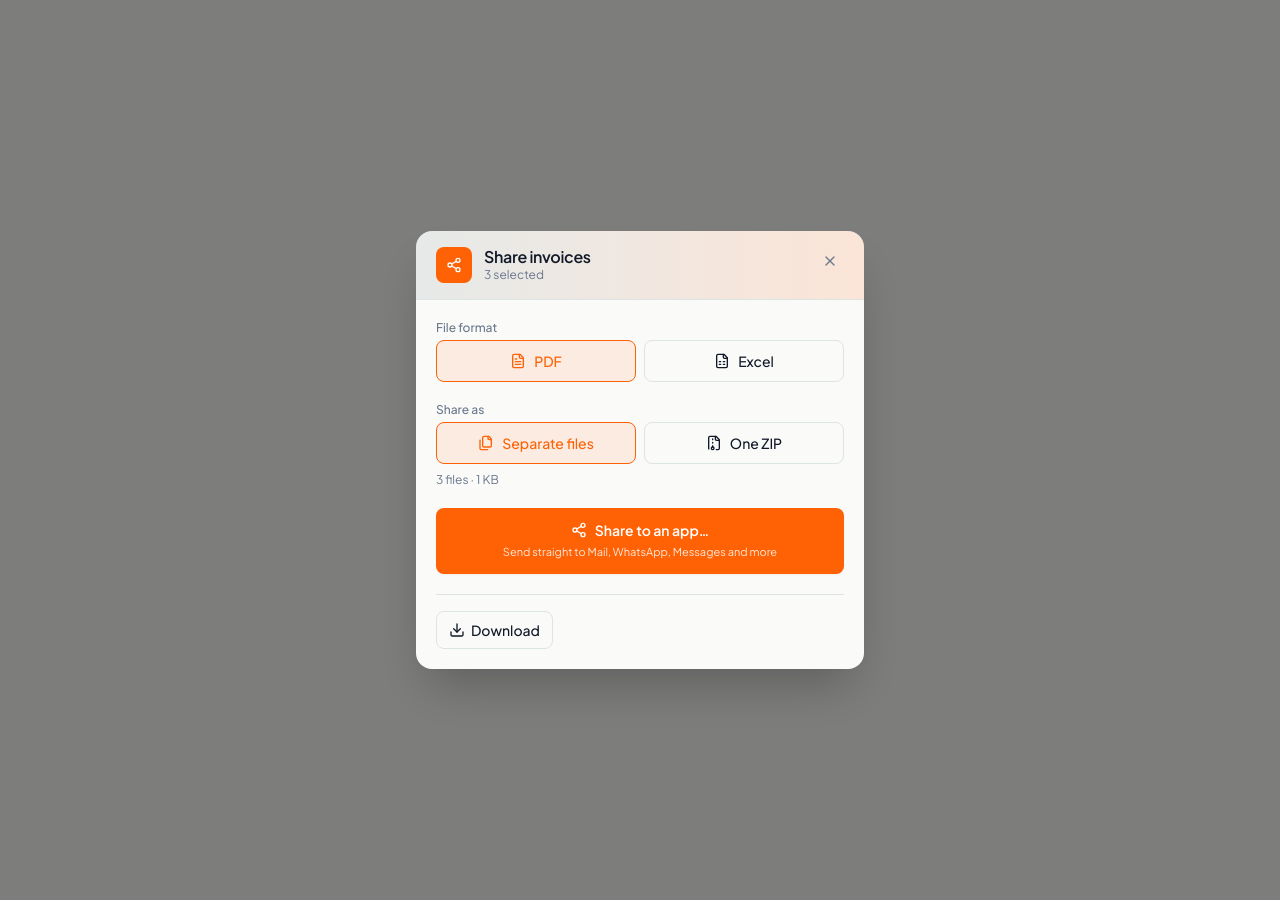
Test: ShareInvoicesDialog › greys out Share to an app for a ZIP and for Excel, and tells the user to download and share
expect the text "3 files · 1 KB" is shown: met, box [436, 472, 499, 487]
expect the button "Share to an app" is enabled: met, box [436, 508, 844, 574]
Click the radio button labelled "One ZIP": click(744, 443) [644, 422, 844, 464]
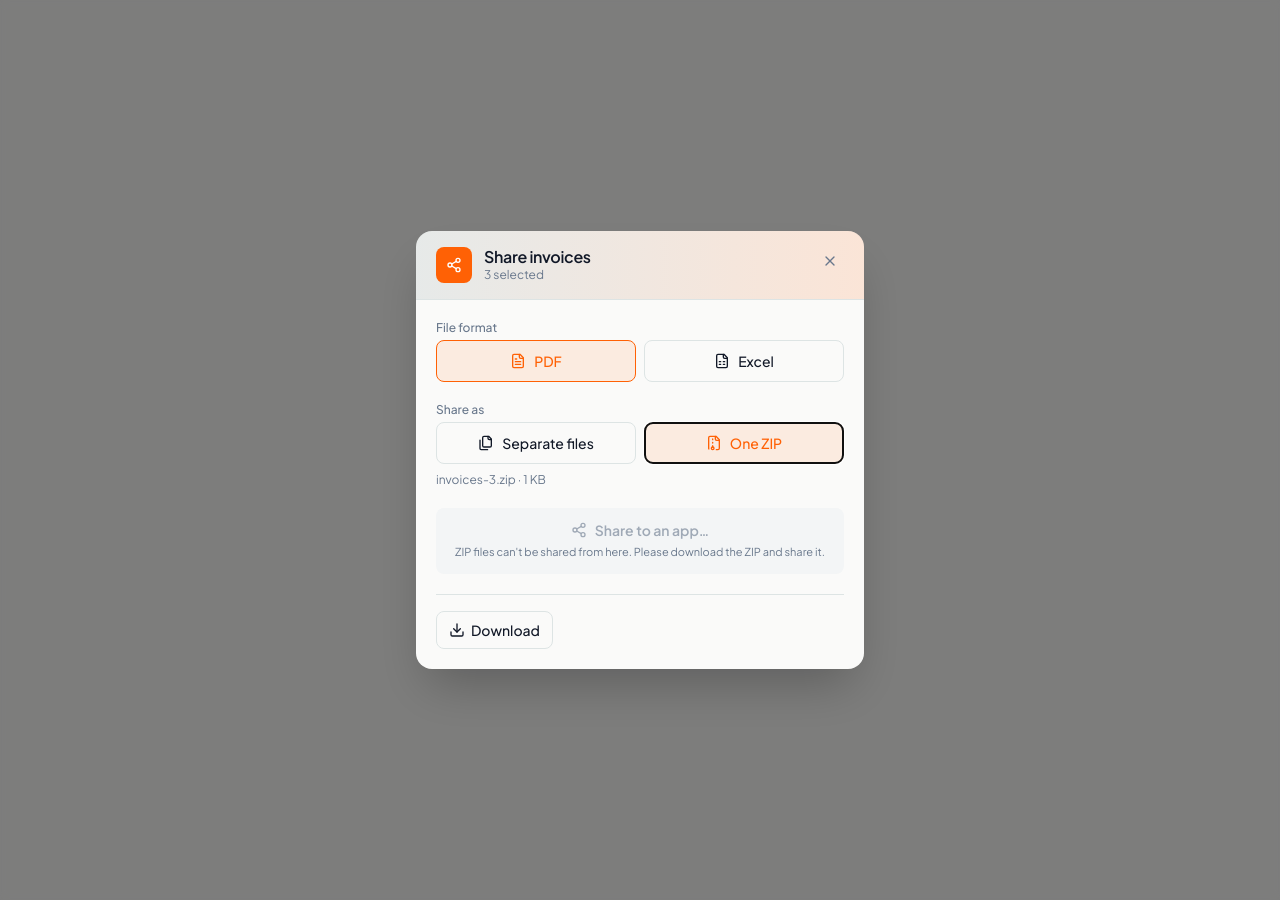
expect the text "invoices-3.zip · 1 KB" is shown: met, box [436, 472, 546, 487]
expect the button "Share to an app" is disabled: met, box [436, 508, 844, 574]
expect the text "ZIP files can't be shared from here. Please download the ZIP and share it." is shown: met, box [455, 542, 825, 562]
Click the radio button labelled "Separate files": click(536, 443) [436, 422, 636, 464]
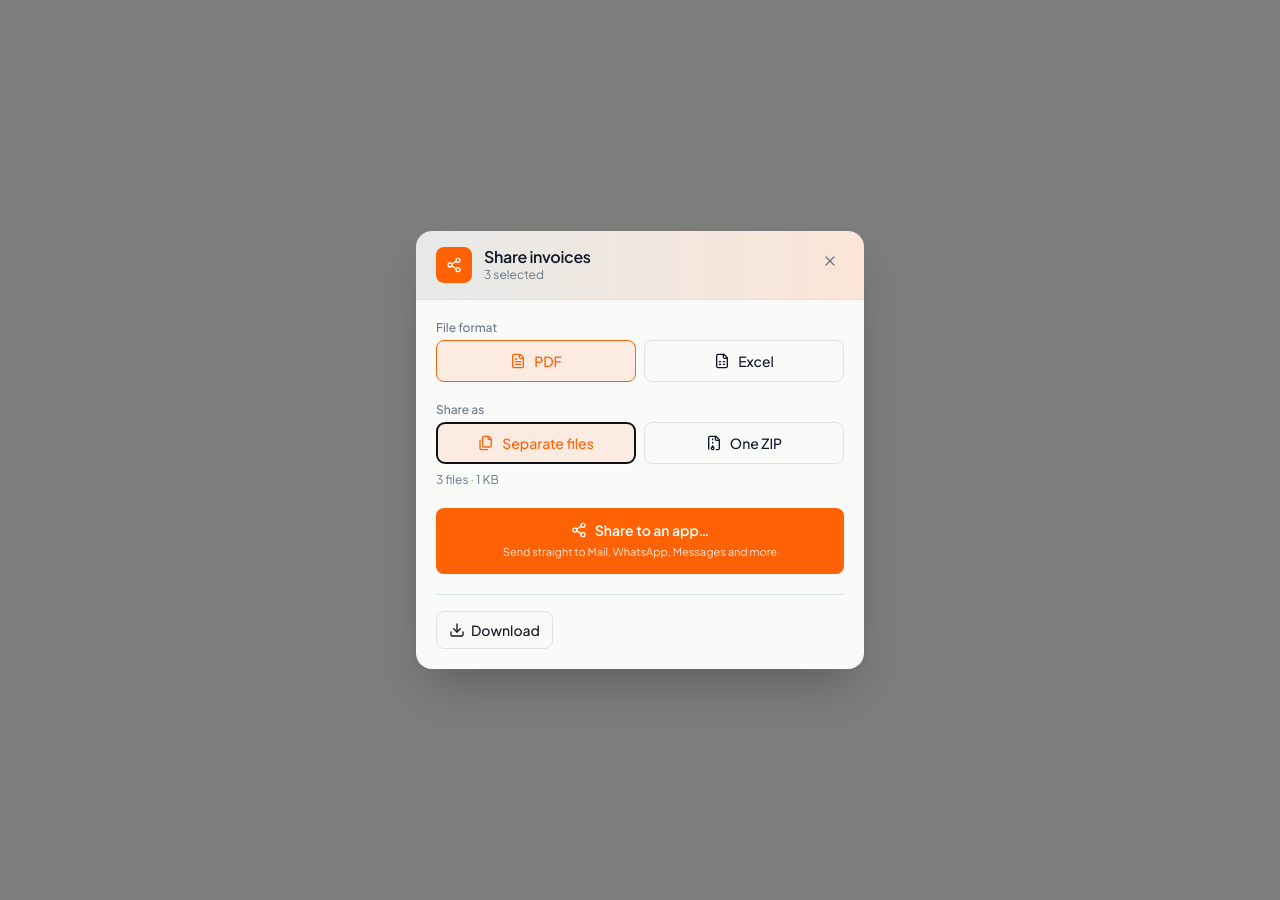
Click the radio button labelled "Excel": click(744, 361) [644, 340, 844, 382]
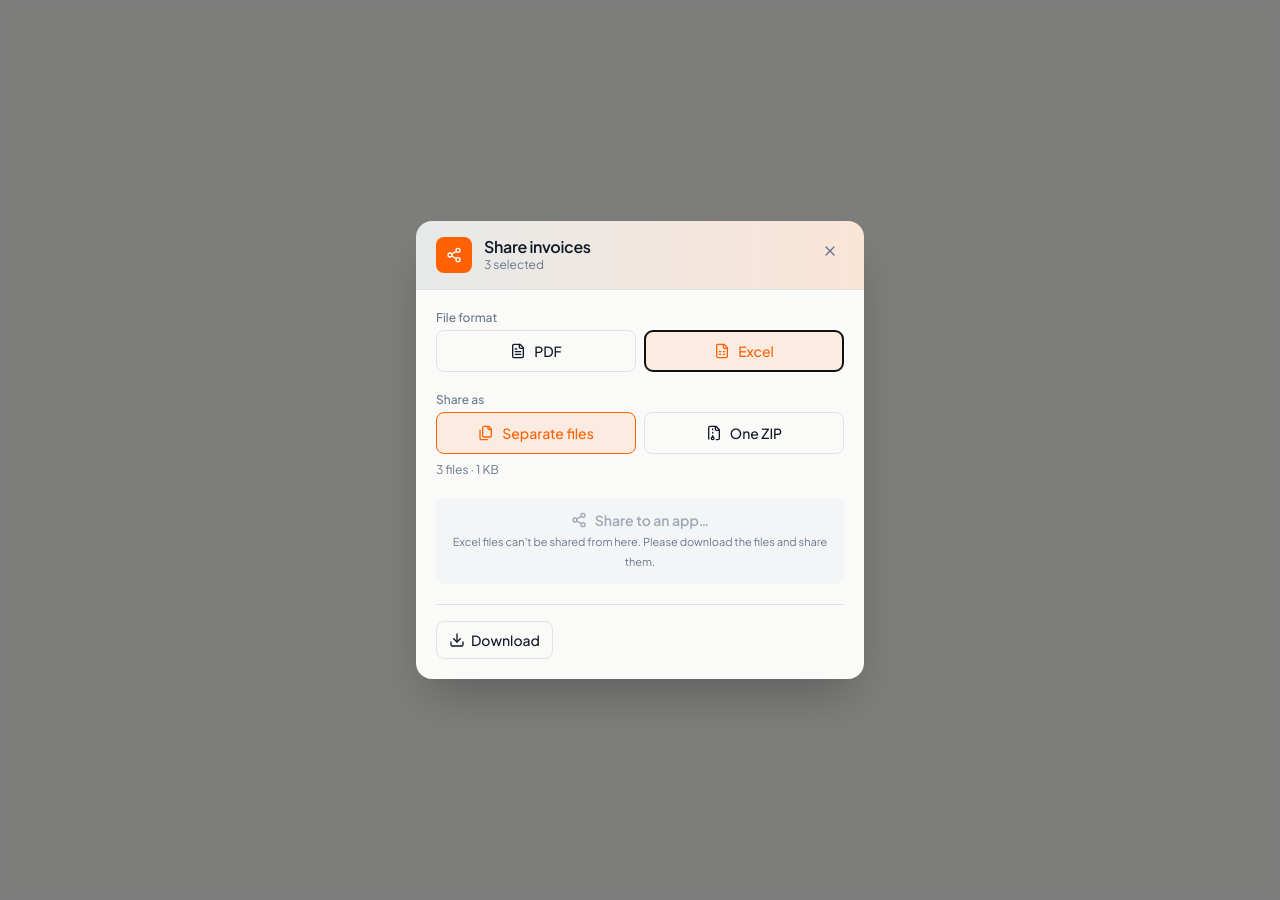
expect the text "3 files · 1 KB" is shown: met, box [436, 462, 499, 477]
expect the button "Share to an app" is disabled: met, box [436, 498, 844, 584]
expect the text "Excel files can't be shared from here" is shown: met, box [453, 535, 827, 568]
